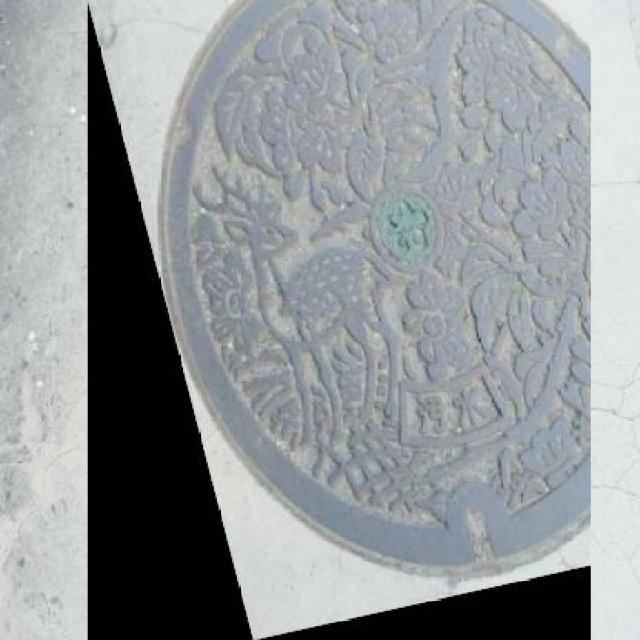Manhole: (88, 0, 590, 640)
